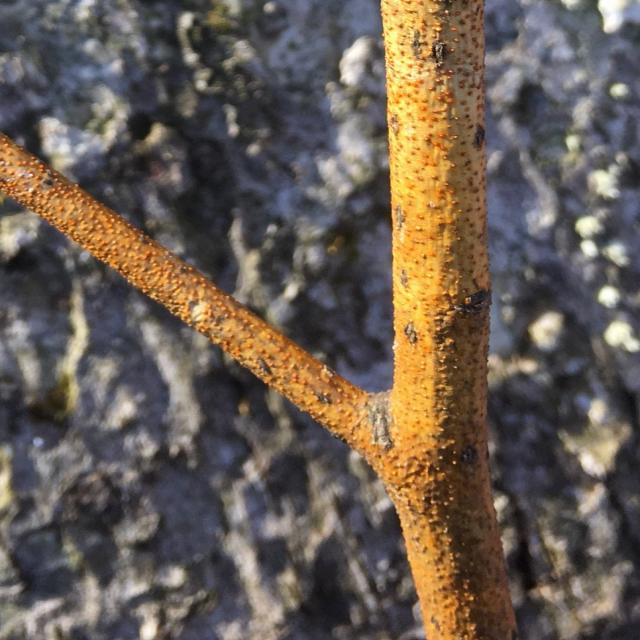Golden_canker: (1, 1, 520, 638)
